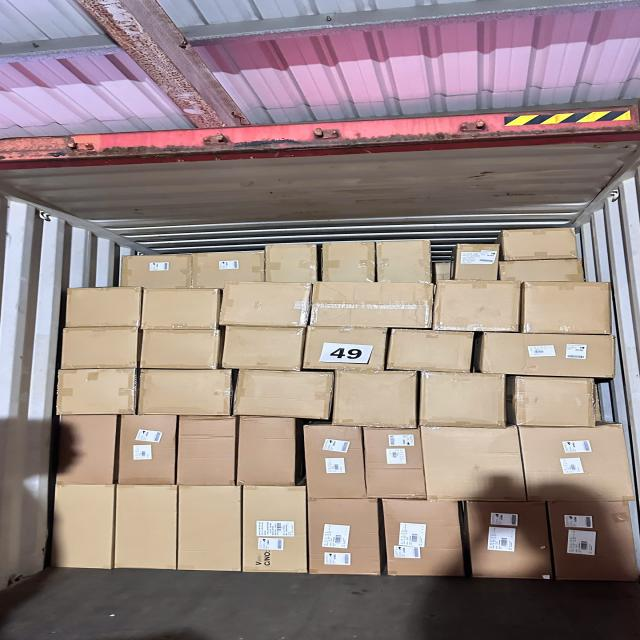Carton: (518, 426, 639, 502), (416, 424, 526, 502), (547, 501, 639, 581), (462, 500, 550, 580), (380, 498, 465, 578), (482, 332, 613, 378), (244, 486, 310, 575), (177, 484, 240, 575), (308, 498, 380, 576), (314, 282, 432, 329), (116, 483, 176, 573), (52, 484, 112, 570), (363, 425, 430, 499), (421, 371, 505, 429), (301, 424, 364, 500), (524, 280, 612, 334), (233, 369, 329, 418), (139, 367, 233, 417), (334, 370, 417, 426), (436, 278, 518, 332), (511, 375, 596, 427), (56, 413, 117, 485), (176, 414, 238, 484), (241, 414, 301, 486), (122, 413, 176, 487), (224, 281, 308, 328), (55, 368, 140, 414), (390, 329, 473, 371), (223, 326, 303, 369), (307, 328, 384, 370), (142, 288, 216, 330), (60, 328, 136, 368), (67, 287, 141, 328), (140, 329, 214, 369)
